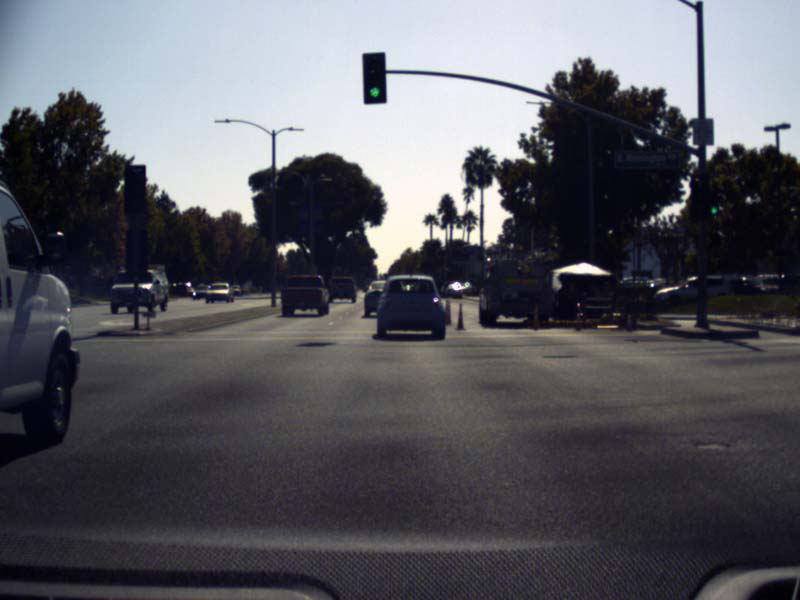Green: (362, 52, 386, 103), (708, 187, 719, 215)
